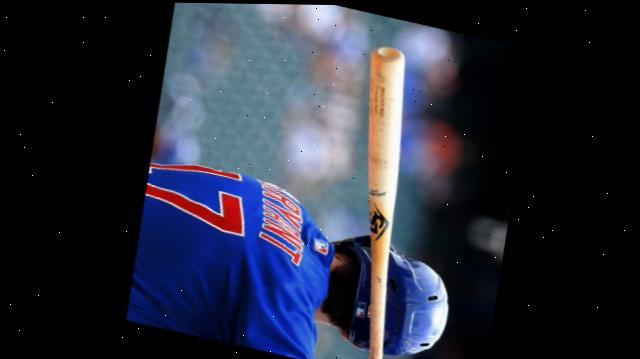baseball bat: (300, 37, 462, 359)
